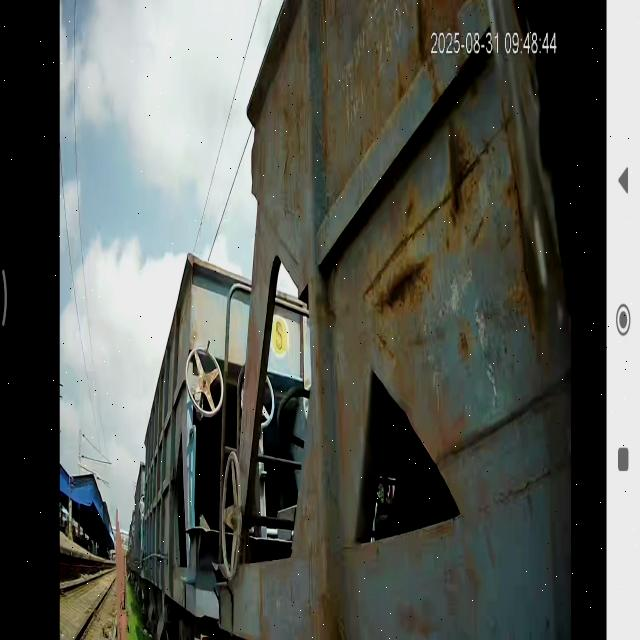joint: (160, 0, 319, 640)
